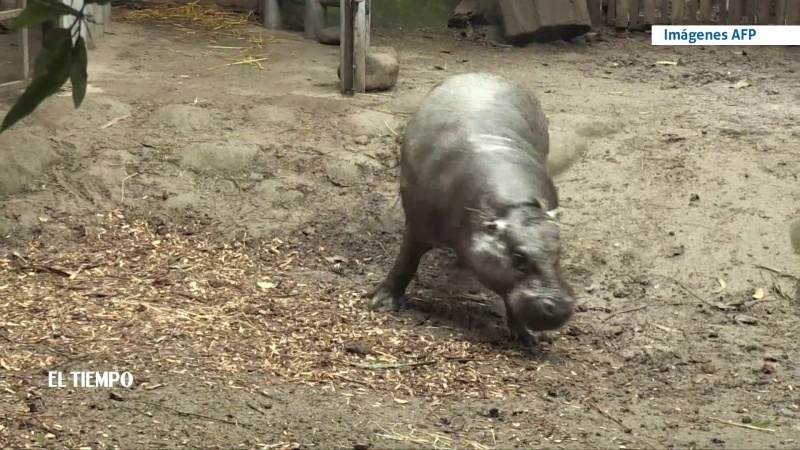hipopotamo: (340, 63, 618, 364)
